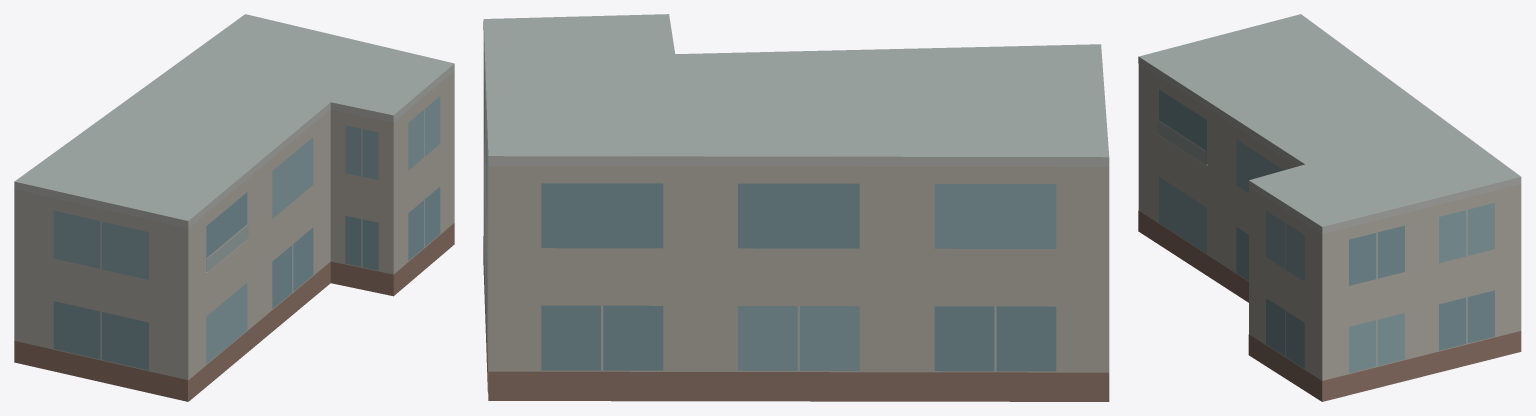
File: survey-upis-32755025.glb
3 views of the same model, side by side, from view 1: azimuth 30°, elevation 25°; view 2: azimuth 150°, elevation 25°; view 3: azimuth 270°, elevation 25° (orthographic). The views are drawn at different scales.
Visible parts, largest first — view 1: survey-upis-32755025.tmp; view 2: survey-upis-32755025.tmp; view 3: survey-upis-32755025.tmp.
Part boxes in pixels (x1,y1,x2,y2): survey-upis-32755025.tmp: (14, 14, 454, 401); survey-upis-32755025.tmp: (483, 14, 1109, 401); survey-upis-32755025.tmp: (1138, 14, 1521, 401).
Bounding box in the file's own units: 15.94 × 6.1 × 12.11.
